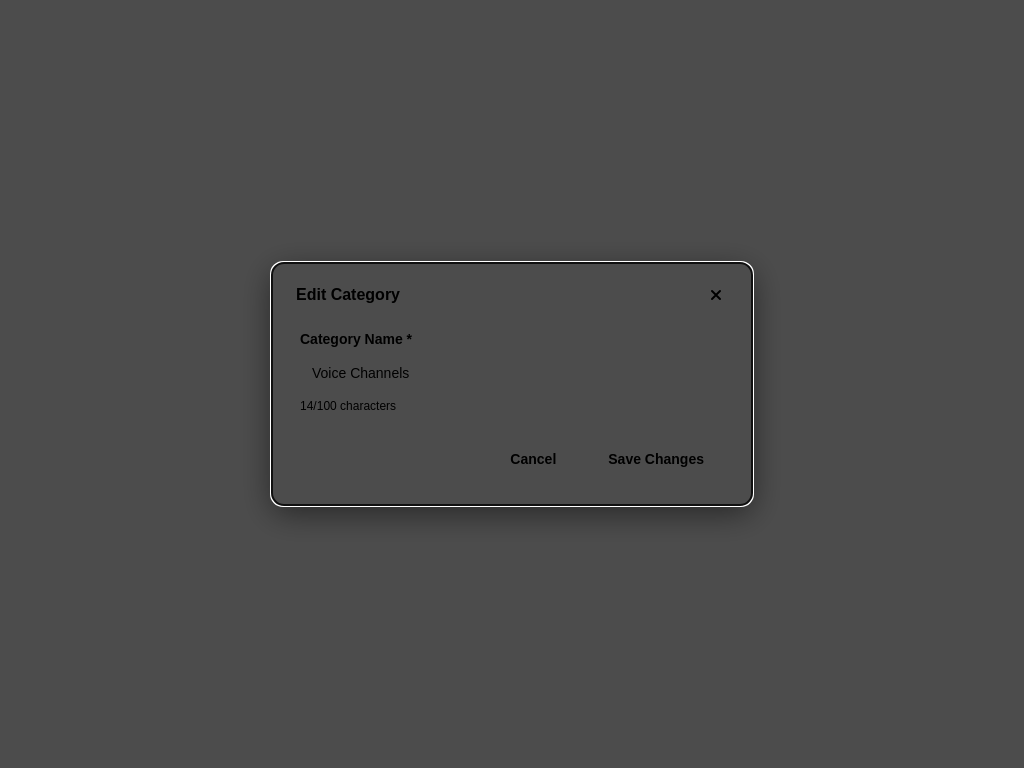
Test: EditCategoryModal › shows error on API failure
Replace the text in the field showing "Voice Channels" with "New Name" at [512, 373], box [300,355,724,391]
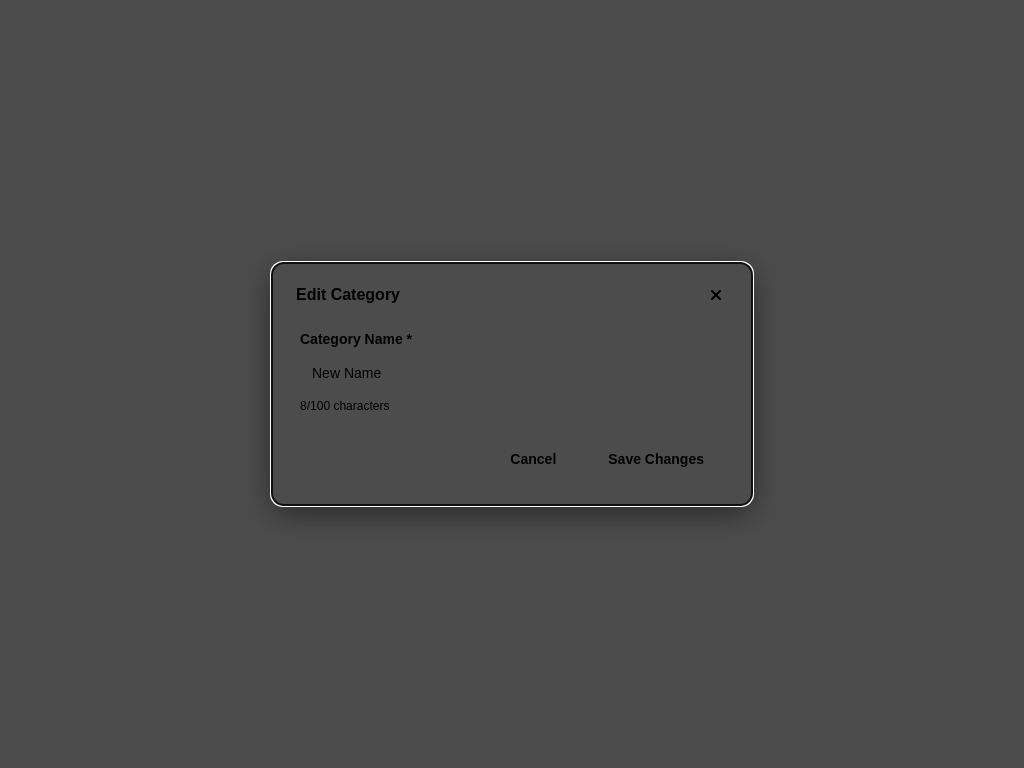
Click the button "Save Changes".
click(656, 459)  # box [588,441,724,477]
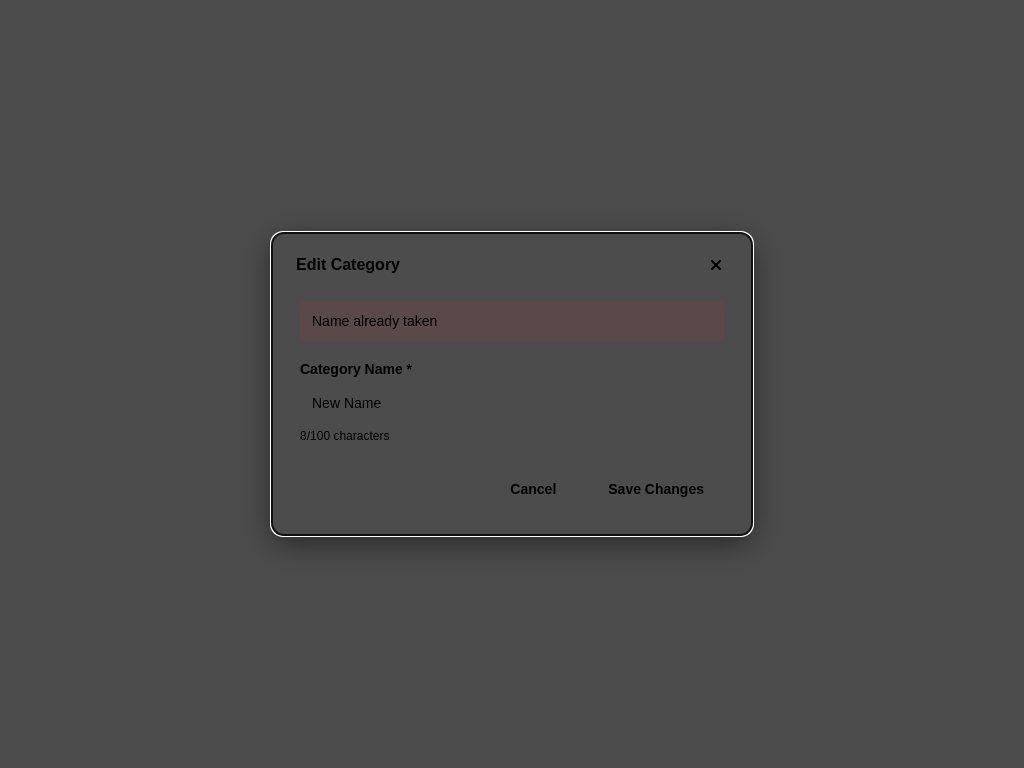
Now the text "Name already taken" is shown, box [300,301,724,341]
